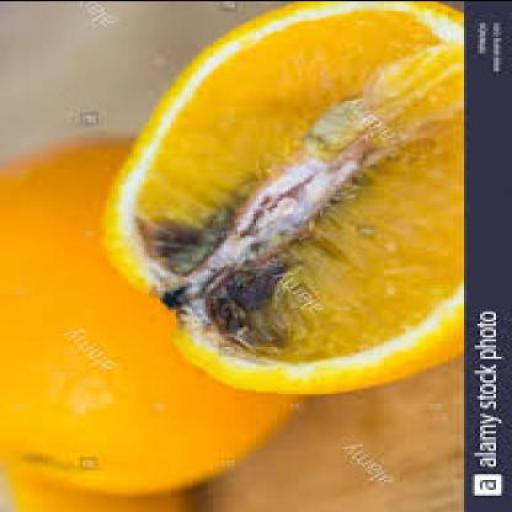biodegradable: (99, 2, 461, 396), (0, 141, 298, 497), (2, 482, 200, 511)
